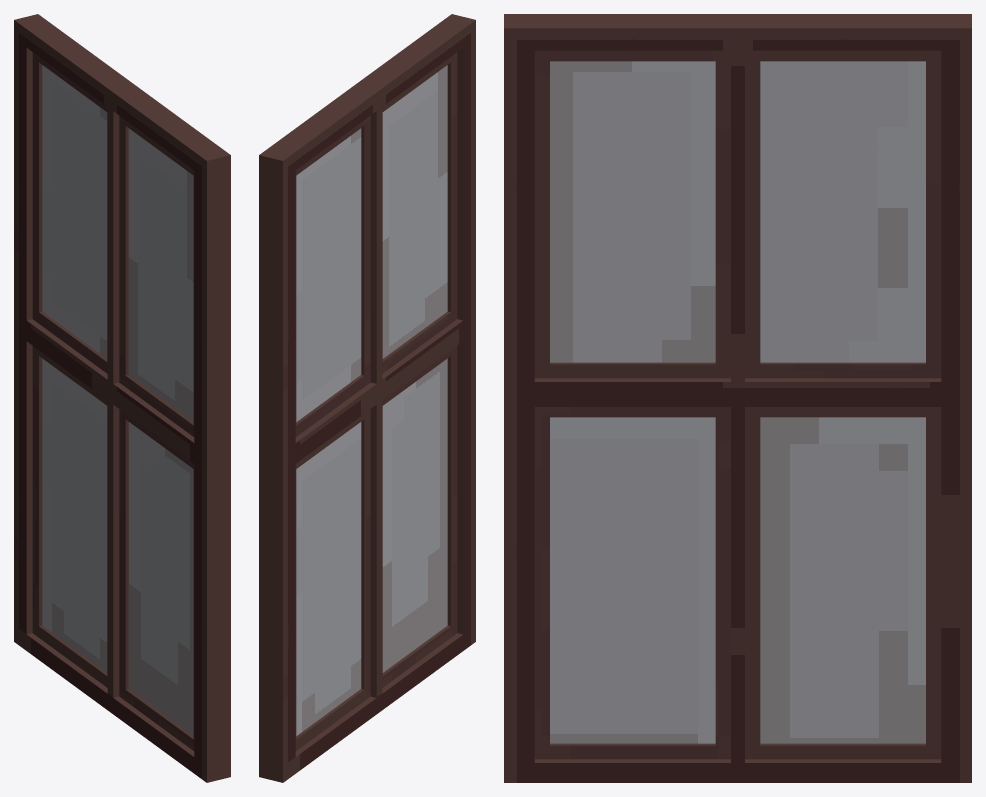
The model's file is Window.fbx.
3 renders of one model, left to right at view 1: azimuth 30°, elevation 25°; view 2: azimuth 150°, elevation 25°; view 3: azimuth 270°, elevation 25°, orthographic. The views are drawn at different scales.
Parts seen in each view (by area): view 1: Cube.001; view 2: Cube.001; view 3: Cube.001.
Part boxes in pixels (x1,y1,x2,y2): Cube.001: [14, 14, 230, 782]; Cube.001: [259, 14, 475, 782]; Cube.001: [504, 14, 971, 782].
Size of the model in its own units: 19.86 by 491 by 276.
Materials: 1 (1 with a texture image).
